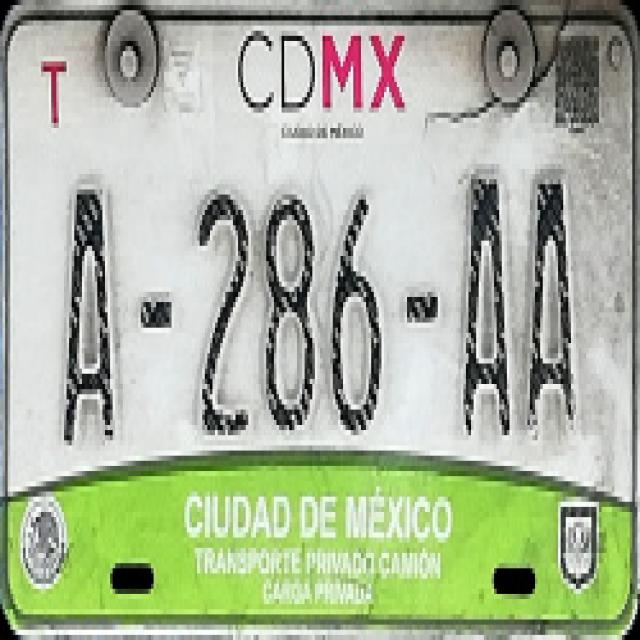placa: (5, 141, 635, 468)
